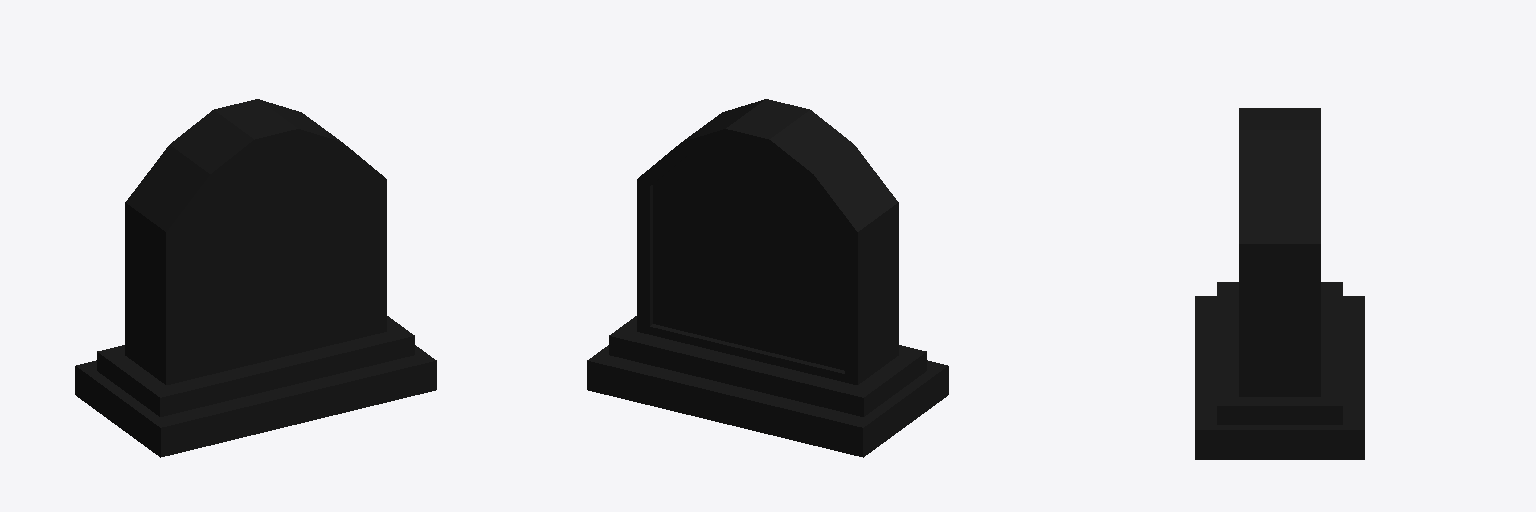
The model's file is Grave_01.obj.
3 renders of one model, left to right at view 1: azimuth 30°, elevation 25°; view 2: azimuth 150°, elevation 25°; view 3: azimuth 270°, elevation 25°, orthographic.
Visible parts, largest first — view 1: Grave_01_Cube.002; view 2: Grave_01_Cube.002; view 3: Grave_01_Cube.002.
Boxes of the visible parts, box(x1,y1,x2,y2) form: Grave_01_Cube.002: box(75, 99, 436, 457); Grave_01_Cube.002: box(587, 99, 948, 457); Grave_01_Cube.002: box(1195, 108, 1364, 459).
Bounding box in the file's own units: 1.38 × 1.31 × 0.7379.